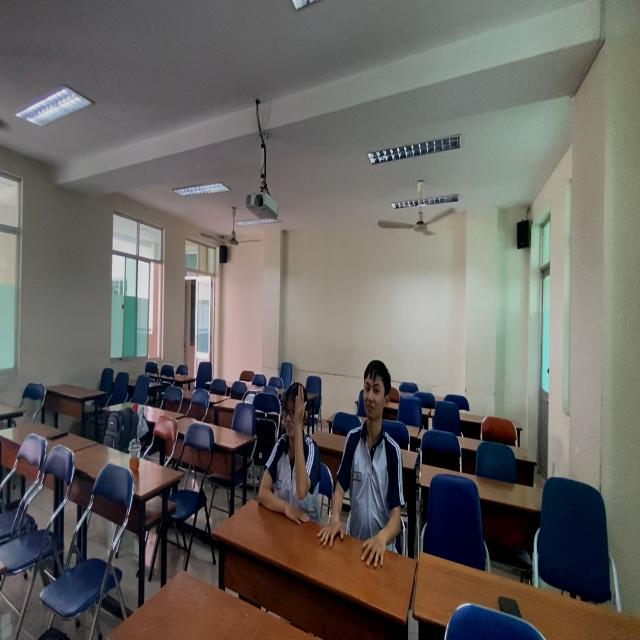raise_hand: (257, 378, 321, 532)
